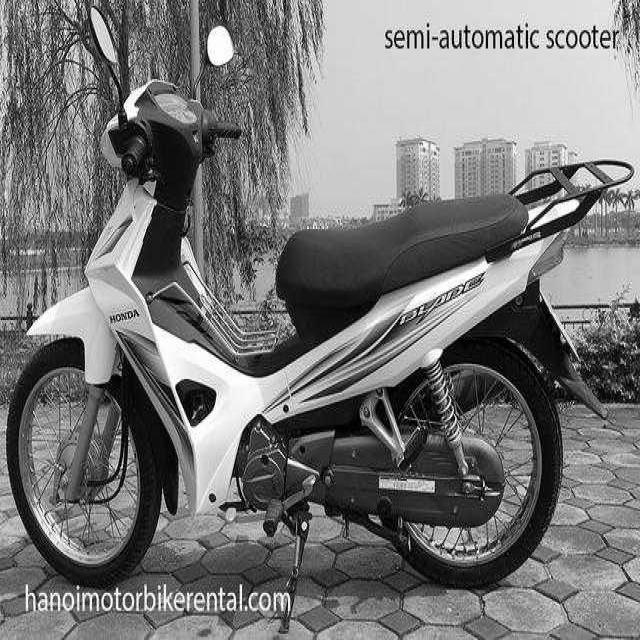Motorcycle: (6, 81, 634, 628)
